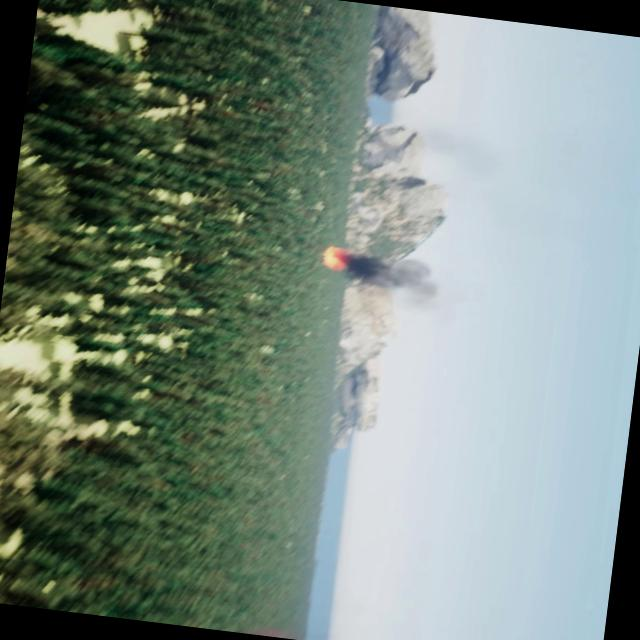fire: (318, 243, 348, 274)
smoke: (346, 252, 439, 304)
